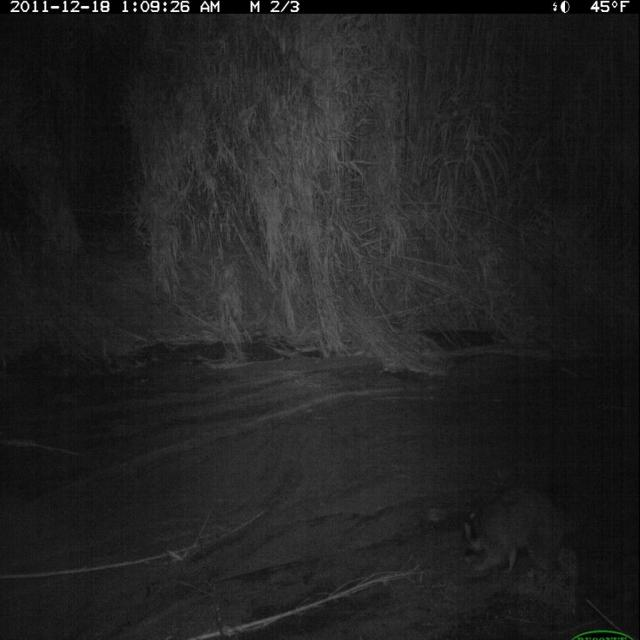raccoon: (454, 477, 598, 599)
